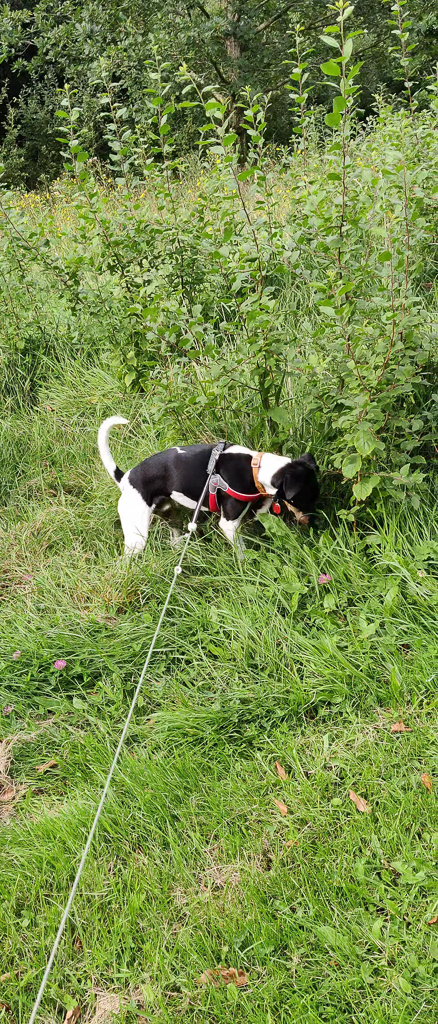Dog: (82, 403, 343, 573)
